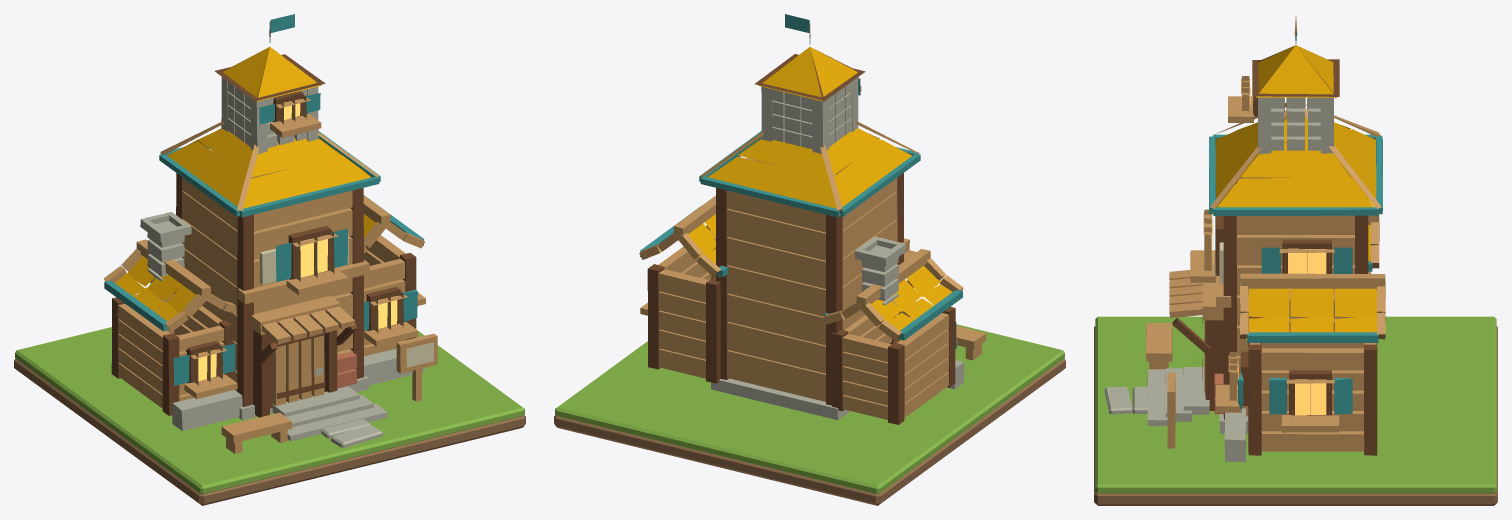
File: town_hall_l06_active_LOD2.glb
3 views of the same model, side by side, from view 1: azimuth 30°, elevation 25°; view 2: azimuth 150°, elevation 25°; view 3: azimuth 270°, elevation 25° (orthographic). The views are drawn at different scales.
Parts seen in each view (by area): view 1: town_hall_l06_active_foundation.001, town_hall_l06_active_grass_tile.001, town_hall_l06_active_earth_tile.001, town_hall_l06_active_path_stone.005; view 2: town_hall_l06_active_foundation.001, town_hall_l06_active_grass_tile.001, town_hall_l06_active_earth_tile.001; view 3: town_hall_l06_active_foundation.001, town_hall_l06_active_grass_tile.001, town_hall_l06_active_earth_tile.001, town_hall_l06_active_path_stone.005.
Boxes of the visible parts, bbox=[...] form: town_hall_l06_active_foundation.001: bbox=[103, 14, 437, 453]; town_hall_l06_active_grass_tile.001: bbox=[15, 327, 524, 494]; town_hall_l06_active_earth_tile.001: bbox=[14, 358, 525, 505]; town_hall_l06_active_path_stone.005: bbox=[331, 425, 382, 447]; town_hall_l06_active_foundation.001: bbox=[639, 14, 986, 424]; town_hall_l06_active_grass_tile.001: bbox=[555, 324, 1064, 494]; town_hall_l06_active_earth_tile.001: bbox=[554, 358, 1065, 505]; town_hall_l06_active_foundation.001: bbox=[1146, 16, 1385, 461]; town_hall_l06_active_grass_tile.001: bbox=[1095, 316, 1496, 493]; town_hall_l06_active_earth_tile.001: bbox=[1094, 326, 1497, 505]; town_hall_l06_active_path_stone.005: bbox=[1104, 386, 1132, 414].
Size of the model in its own units: 3.6 by 4.02 by 3.6.
